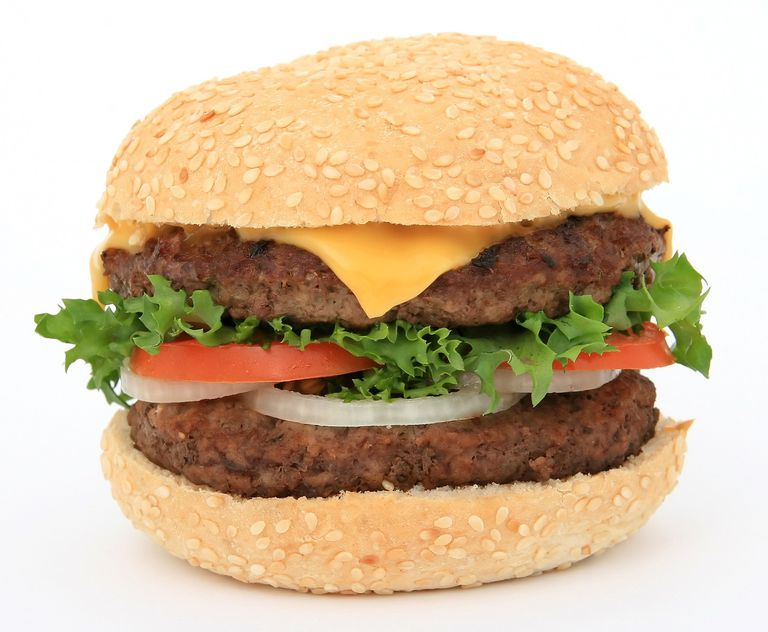hamburger: (73, 38, 724, 608)
